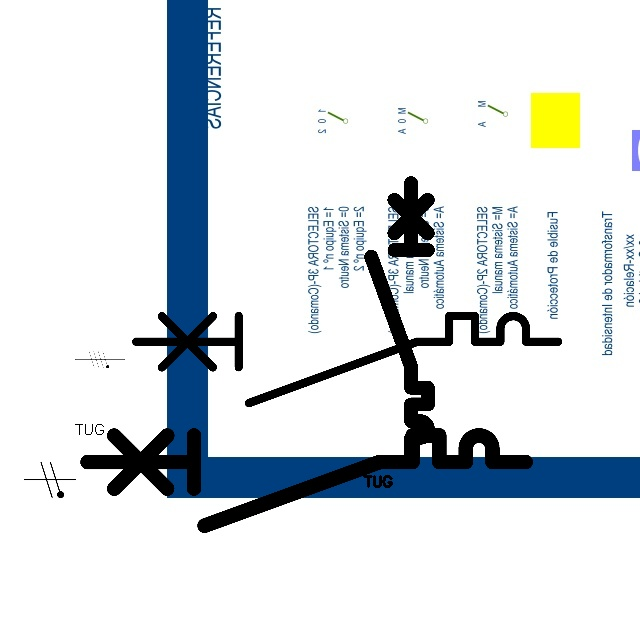interruptor_termomagnetico: (76, 424, 537, 536), (125, 305, 569, 413), (364, 176, 435, 466)
